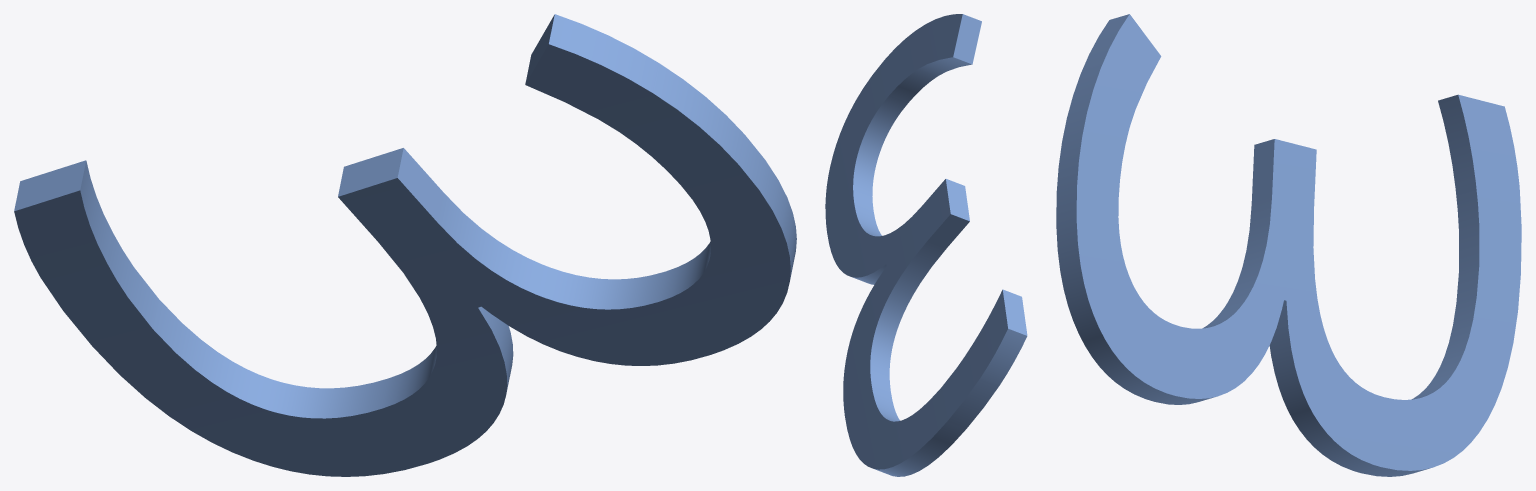
File: New_Number_3.gltf
The picture shows the model from 3 angles, left to right: view 1: azimuth 30°, elevation 25°; view 2: azimuth 150°, elevation 25°; view 3: azimuth 270°, elevation 25°; orthographic projection. The views are drawn at different scales.
Visible parts, largest first — view 1: Part 174; view 2: Part 174; view 3: Part 174.
Part boxes in pixels (<box>): Part 174: <box>14,14,796,476</box>; Part 174: <box>825,14,1027,476</box>; Part 174: <box>1056,14,1521,476</box>.
Bounding box in the file's own units: 0.00427 × 0.00436 × 0.00388.
